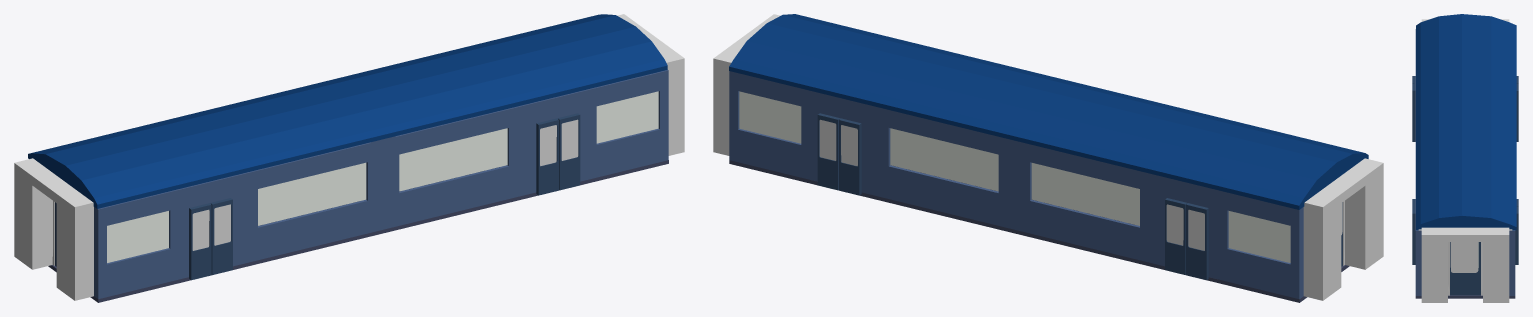
The model's file is Train BG3.fbx.
3 views of the same model, side by side, from view 1: azimuth 30°, elevation 25°; view 2: azimuth 150°, elevation 25°; view 3: azimuth 270°, elevation 25° (orthographic). The views are drawn at different scales.
Parts seen in each view (by area): view 1: Atap, Tembok.004, Tembok.005, Konektor, Kaca Gede.002, Kaca Gede.003, Kaca Kecil.002, Kaca Kecil.003, Lantai, Konektor.001, Pintu(bg).002, Pintu(bg).007 (+6 smaller); view 2: Atap, Tembok.001, Tembok.002, Konektor, Kaca Gede.001, Kaca Gede.004, Kaca Kecil.001, Kaca Kecil.004, Lantai, Konektor.001, Pintu(bg).006, Pintu(bg).004 (+6 smaller); view 3: Atap, Konektor.001, Kaca(bg).010, Pintu(bg).010, Tembok.005, Tembok.002, Pintu(bg).008, Pintu(bg).001, Pintu Jendela.001, Pintu(bg).003, Lantai, Pintu(bg).005 (+1 smaller).
Part boxes in pixels (box(x1,y1,x2,y2)): Atap: box(28, 14, 667, 208); Tembok.004: box(94, 140, 383, 299); Tembok.005: box(379, 70, 668, 229); Konektor: box(14, 158, 93, 300); Kaca Gede.002: box(258, 162, 366, 225); Kaca Gede.003: box(399, 128, 507, 191); Kaca Kecil.002: box(596, 91, 658, 143); Kaca Kecil.003: box(107, 211, 168, 262); Lantai: box(48, 160, 668, 302); Konektor.001: box(617, 14, 684, 155); Pintu(bg).002: box(189, 203, 211, 280); Pintu(bg).007: box(536, 118, 558, 195); Atap: box(729, 14, 1368, 209); Tembok.001: box(1014, 140, 1303, 299); Tembok.002: box(729, 71, 1014, 229); Konektor: box(1303, 158, 1383, 300); Kaca Gede.001: box(1031, 163, 1139, 225); Kaca Gede.004: box(890, 128, 998, 191); Kaca Kecil.001: box(739, 91, 801, 143); Kaca Kecil.004: box(1228, 211, 1290, 262); Lantai: box(729, 160, 1349, 302); Konektor.001: box(713, 14, 780, 155); Pintu(bg).006: box(1186, 203, 1208, 280); Pintu(bg).004: box(839, 118, 861, 195); Atap: box(1416, 14, 1516, 230); Konektor.001: box(1421, 227, 1509, 302); Kaca(bg).010: box(1450, 242, 1477, 272); Pintu(bg).010: box(1450, 242, 1480, 295); Tembok.005: box(1415, 134, 1421, 295); Tembok.002: box(1509, 230, 1515, 295); Pintu(bg).008: box(1412, 206, 1415, 264); Pintu(bg).001: box(1412, 83, 1415, 141); Pintu Jendela.001: box(1418, 229, 1512, 295); Pintu(bg).003: box(1515, 206, 1518, 264); Lantai: box(1415, 295, 1515, 298); Pintu(bg).005: box(1516, 83, 1518, 141).
Size of the model in its own units: 5616 by 1002 by 1170.
